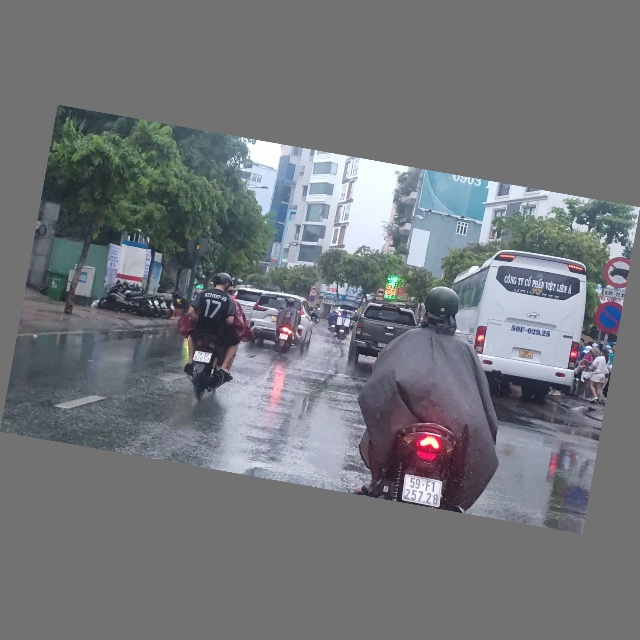P.106a*Xe tai: (602, 255, 631, 291), (375, 288, 386, 298), (310, 286, 318, 294)
P.131a: (593, 298, 623, 336), (308, 295, 316, 304)
